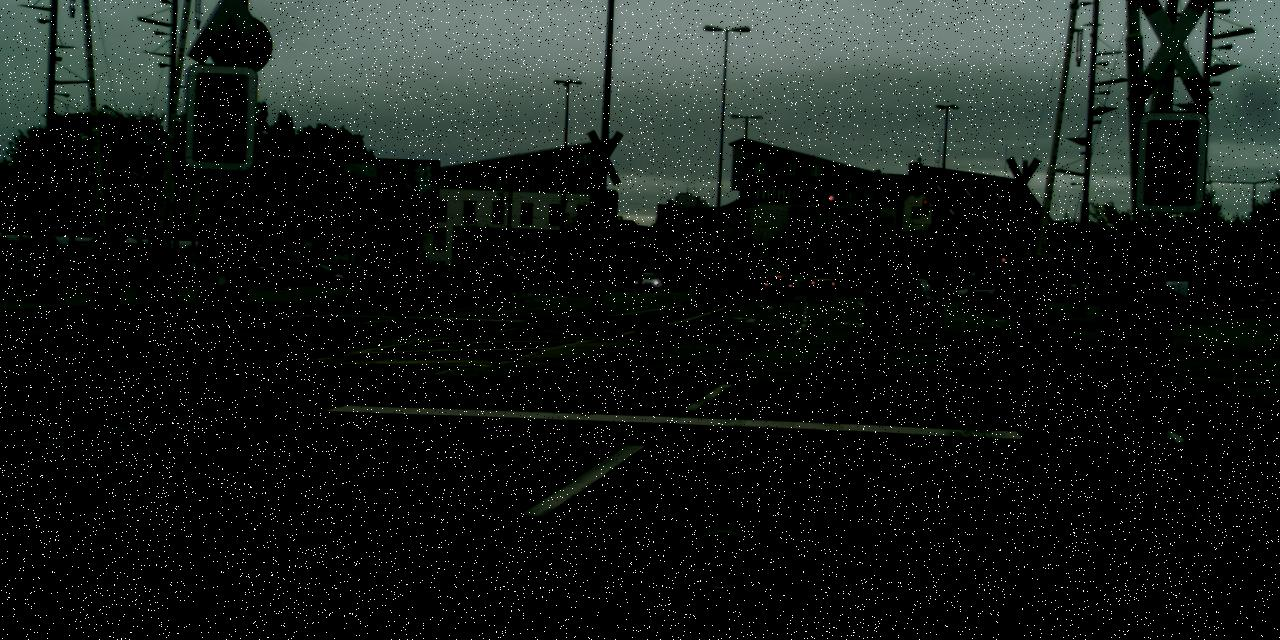ped: (4, 229, 64, 303), (378, 252, 444, 296), (267, 244, 299, 290), (83, 235, 106, 290), (492, 266, 542, 290), (106, 239, 128, 291), (206, 242, 224, 286), (182, 245, 198, 284), (475, 261, 490, 288), (543, 266, 559, 290), (459, 260, 469, 288)
